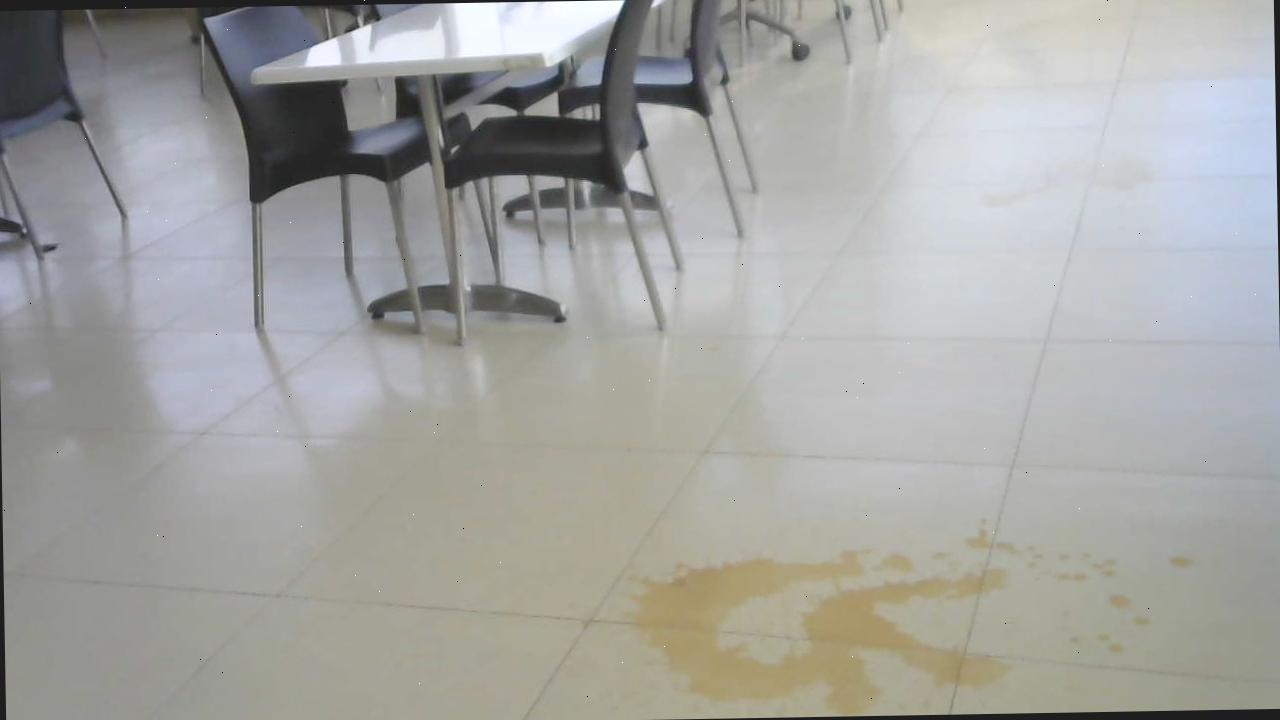dirty_floor: (569, 520, 1206, 719)
